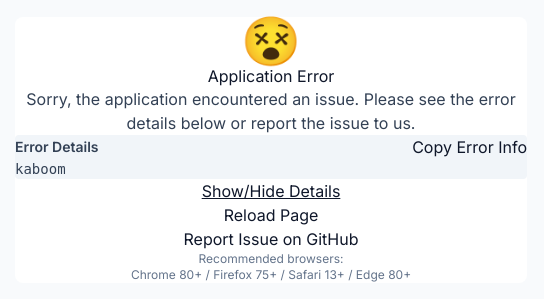
Test: ErrorBoundary copy button › confirms when the error details were copied
Click the button "Copy Error Info".
click(470, 147)  # box [412, 135, 527, 159]
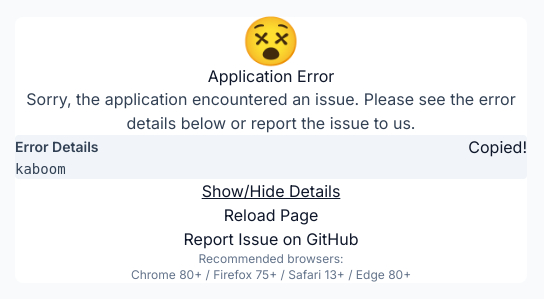
Expected: the button "Copied!" is shown, [468, 135, 527, 159]
